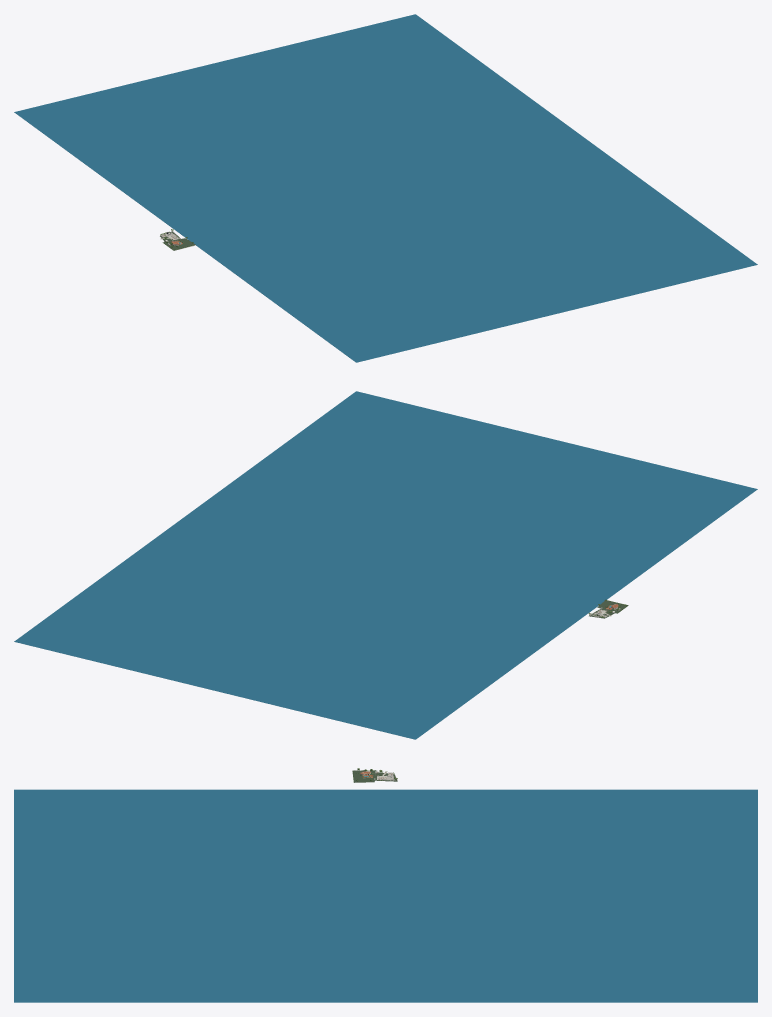
The model's file is glitz.glb.
3 views of the same model, one above another, from view 1: azimuth 30°, elevation 25°; view 2: azimuth 150°, elevation 25°; view 3: azimuth 270°, elevation 25° (orthographic). The views are drawn at different scales.
Visible parts, largest first — view 1: object 457; view 2: object 457; view 3: object 457.
Part boxes in pixels (x1,y1,x2,y2): object 457: (14,14,757,362); object 457: (14,391,757,739); object 457: (14,789,757,1002).
Size of the model in its own units: 1120 by 18.59 by 1550.
